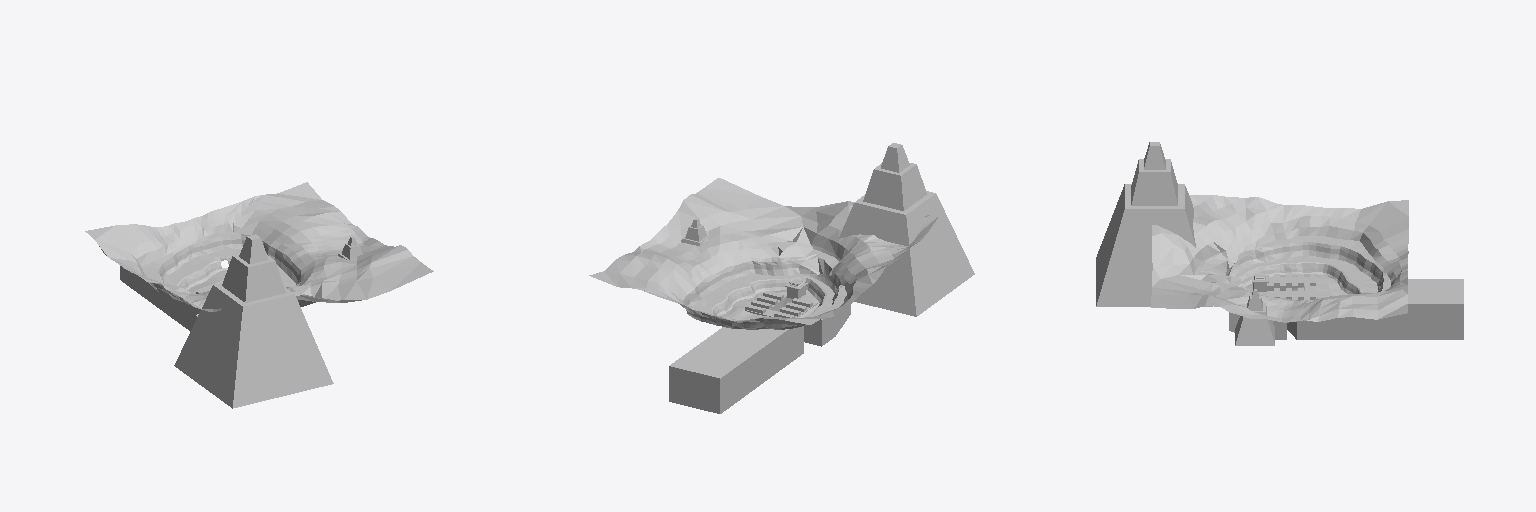
File: Low Poly Land 3.obj
3 renders of one model, left to right at view 1: azimuth 30°, elevation 25°; view 2: azimuth 150°, elevation 25°; view 3: azimuth 270°, elevation 25°, orthographic.
Visible parts, largest first — view 1: polySurface13, Myland3:pCube2, polySurface12, pCube12; view 2: polySurface13, Myland3:pCube2, pCube12, polySurface12, pCube2; view 3: polySurface13, Myland3:pCube2, pCube12, polySurface12, Myland3:pCube1, pCube7 polySurface1, pCube2.
Part boxes in pixels (x1,y1,x2,y2): polySurface13: (85, 182, 433, 311); Myland3:pCube2: (174, 234, 333, 408); polySurface12: (141, 232, 295, 293); pCube12: (120, 266, 200, 331); polySurface13: (589, 178, 938, 329); Myland3:pCube2: (839, 143, 974, 316); pCube12: (669, 304, 850, 413); polySurface12: (693, 252, 846, 320); pCube2: (745, 291, 812, 317); polySurface13: (1151, 195, 1408, 322); Myland3:pCube2: (1096, 142, 1212, 306); pCube12: (1229, 279, 1463, 339); polySurface12: (1200, 236, 1390, 298); Myland3:pCube1: (1235, 289, 1274, 345); pCube7 polySurface1: (1266, 277, 1316, 299); pCube2: (1274, 274, 1315, 299).
Bounding box in the file's own units: 472 × 314 × 651.